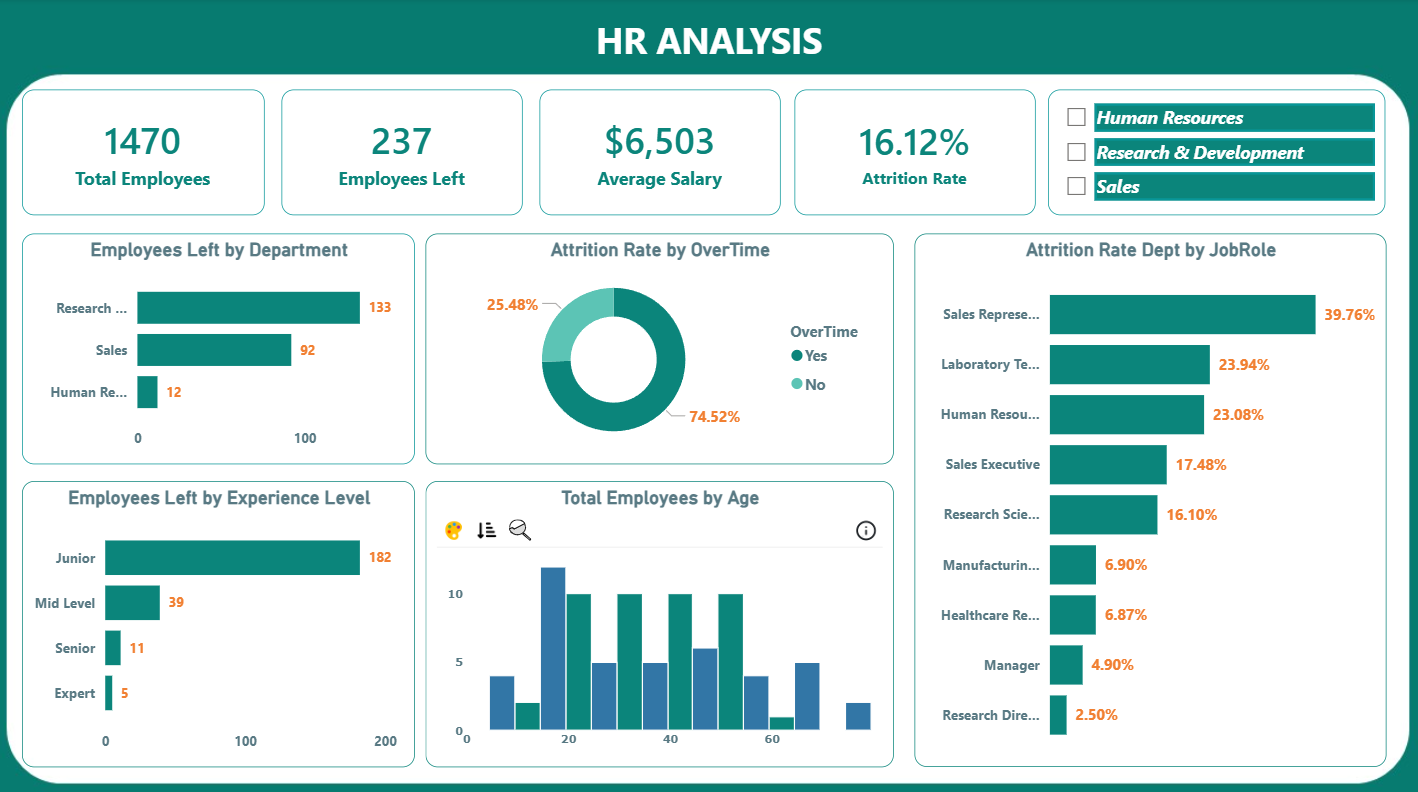

The dashboard page shown, as its layout file describes it:
{"tool":"powerbi","page":{"name":"Page 1","canvas":[1280,720],"ordinal":0},"visuals":[{"type":"cardVisual","fields":{"Data":["Employees.Total_Employees"]},"box":[22.1,81.9,218.9,113.4],"z":0},{"type":"donutChart","title":"Attrition Rate by OverTime","fields":{"Y":["Employees.Attrition_Rate"],"Category":["HR_Employee.OverTime"]},"box":[385.9,212.6,422.1,207.9],"z":1000},{"type":"barChart","title":"Employees Left by Department","fields":{"Y":["Employees.Employees_Left"],"Category":["HR_Employee.Department"]},"box":[21.6,212.2,354.1,208.2],"z":2000},{"type":"clusteredBarChart","fields":{"Category":["HR_Employee.JobRole"],"Y":["Employees.Attrition Rate Dept"]},"box":[825.3,212.6,425.3,480.4],"z":3000},{"type":"clusteredBarChart","title":"Employees Left by Experience Level","fields":{"Category":["HR_Employee.Experience Level"],"Y":["Employees.Employees_Left"]},"box":[21.6,435.3,354.1,258.2],"z":4000},{"type":"histogramF963F133BA02A0B35D286F09F80E9C78","title":"Total Employees by Age","fields":{"col_2":["HR_Employee.Age"],"col_4":["Employees.Total_Employees"]},"box":[385.9,434.7,422.1,258.3],"z":5000},{"type":"cardVisual","fields":{"Data":["Employees.Employees_Left"]},"box":[255.2,81.9,217.4,113.4],"z":6000},{"type":"cardVisual","fields":{"Data":["Employees.Average_Salary"]},"box":[488.3,81.9,217.4,113.4],"z":7000},{"type":"cardVisual","fields":{"Data":["Employees.Attrition_Rate"]},"box":[717.8,82.5,217.6,113.5],"z":8000},{"type":"slicer","fields":{"Values":["HR_Employee.Department"]},"box":[946.2,82.5,304.1,113.5],"z":9000},{"type":"textbox","box":[534,11,234.7,53.6],"z":10000}]}

Visuals, with their boxes in screenshot pixels (x1, y1, x2, y2), scaled from the page's 1280x720 canvas onto the 1418x792 screenshot:
cardVisual - Employees.Total_Employees: left=24, top=90, right=267, bottom=215
"Attrition Rate by OverTime" donutChart: left=428, top=234, right=895, bottom=463
"Employees Left by Department" barChart: left=24, top=233, right=416, bottom=462
clusteredBarChart - HR_Employee.JobRole x Employees.Attrition Rate Dept: left=914, top=234, right=1385, bottom=762
"Employees Left by Experience Level" clusteredBarChart: left=24, top=479, right=416, bottom=763
"Total Employees by Age" histogramF963F133BA02A0B35D286F09F80E9C78: left=428, top=478, right=895, bottom=762
cardVisual - Employees.Employees_Left: left=283, top=90, right=524, bottom=215
cardVisual - Employees.Average_Salary: left=541, top=90, right=782, bottom=215
cardVisual - Employees.Attrition_Rate: left=795, top=91, right=1036, bottom=216
slicer - HR_Employee.Department: left=1048, top=91, right=1385, bottom=216
textbox: left=592, top=12, right=852, bottom=71
